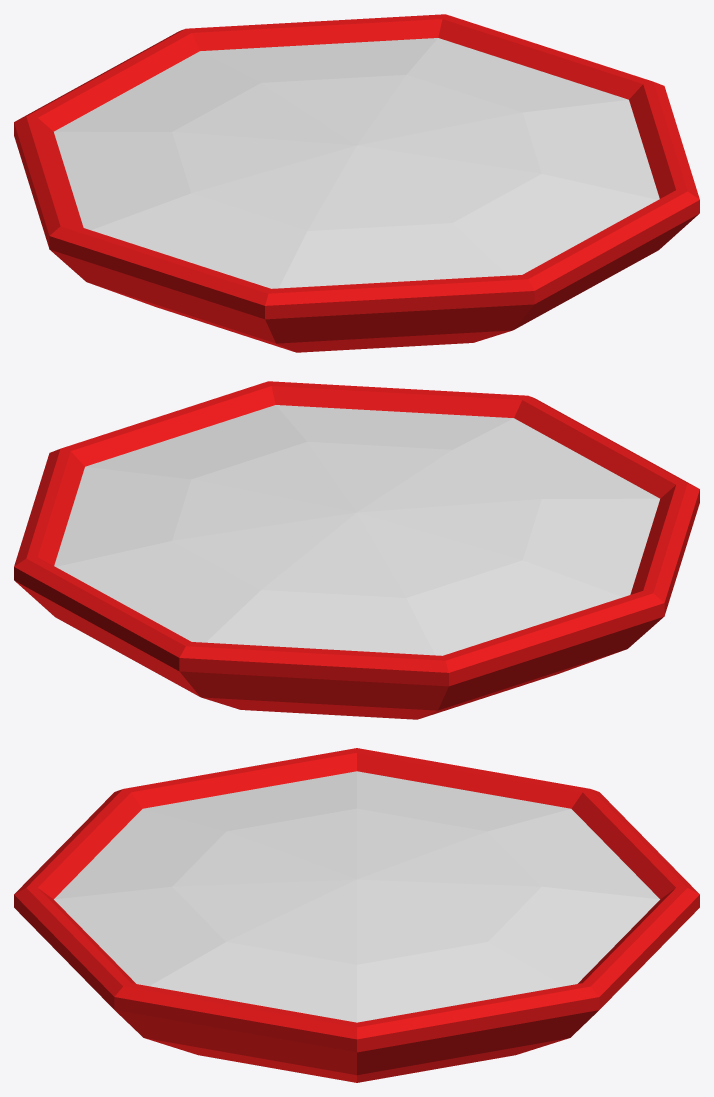
File: Apple Pie.fbx
The picture shows the model from 3 angles, top to bottom: view 1: azimuth 30°, elevation 25°; view 2: azimuth 150°, elevation 25°; view 3: azimuth 270°, elevation 25°; orthographic projection. The views are drawn at different scales.
Visible parts, largest first — view 1: Cylinder; view 2: Cylinder; view 3: Cylinder.
Boxes of the visible parts, x1,y1,x2,y2 form: Cylinder: (14, 14, 699, 352); Cylinder: (14, 381, 699, 719); Cylinder: (14, 748, 699, 1082).
Bounding box in the file's own units: 200 × 34.82 × 200.
